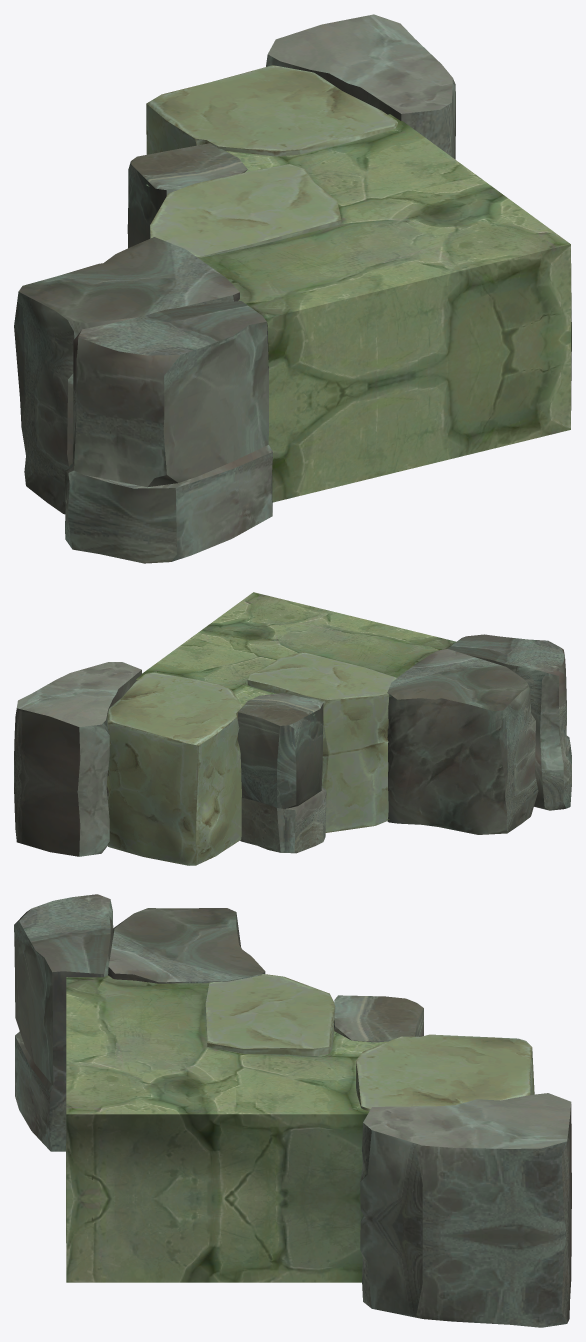
File: Ruins_Wall_DMG_Center_BotLeft_A.fbx
3 views of the same model, one above another, from view 1: azimuth 30°, elevation 25°; view 2: azimuth 150°, elevation 25°; view 3: azimuth 270°, elevation 25° (orthographic). The views are drawn at different scales.
Parts seen in each view (by area): view 1: Ruins_Wall_DMG_Center_BotLeft_A; view 2: Ruins_Wall_DMG_Center_BotLeft_A; view 3: Ruins_Wall_DMG_Center_BotLeft_A.
Boxes of the visible parts, <box> form: Ruins_Wall_DMG_Center_BotLeft_A: <box>14,14,571,563</box>; Ruins_Wall_DMG_Center_BotLeft_A: <box>14,592,571,865</box>; Ruins_Wall_DMG_Center_BotLeft_A: <box>14,894,571,1327</box>.
Bounding box in the file's own units: 820 × 284 × 750.
